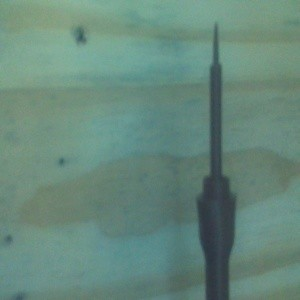solder: (195, 23, 239, 300)
